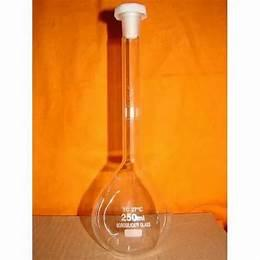Volumetric flask: (78, 10, 172, 253)
